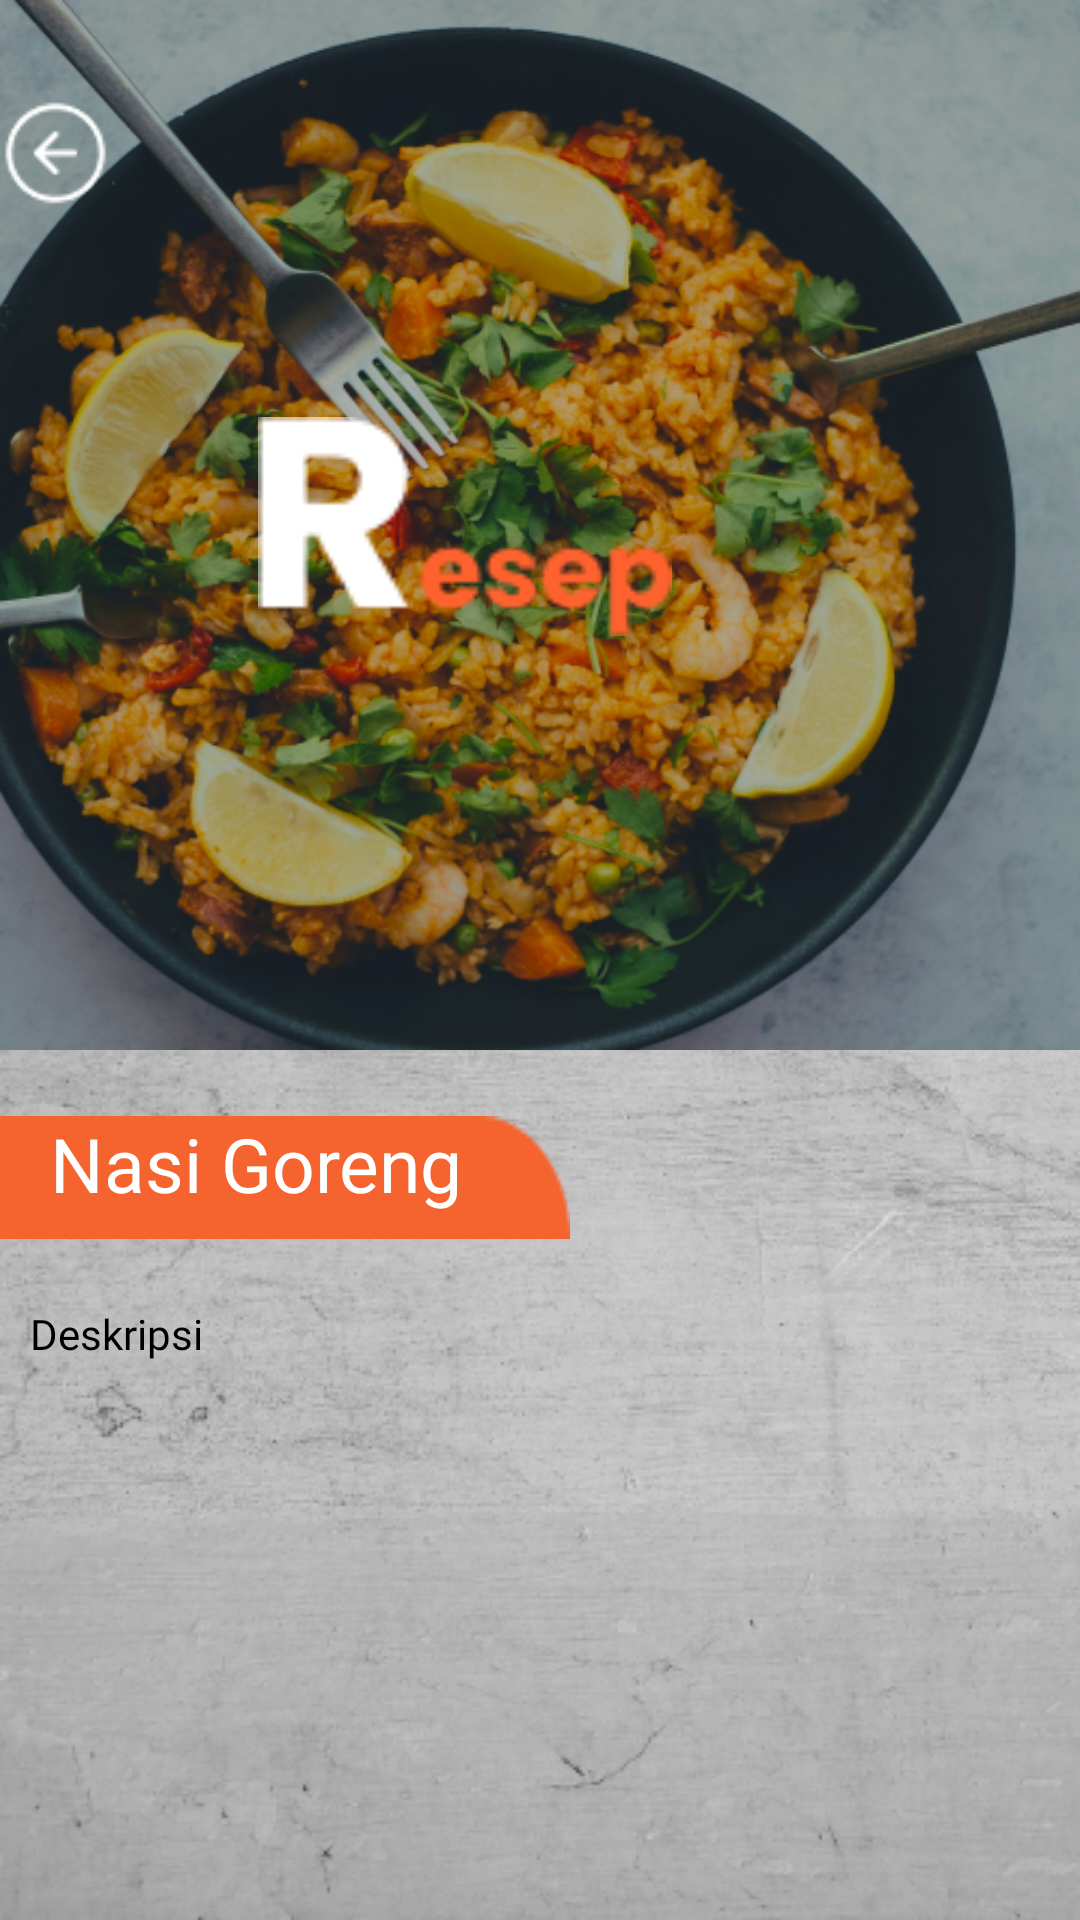

Point at icon controls on the screen. Image size 1080 × 1920, points as (x=x, y=y).
back: (x=55, y=153)
